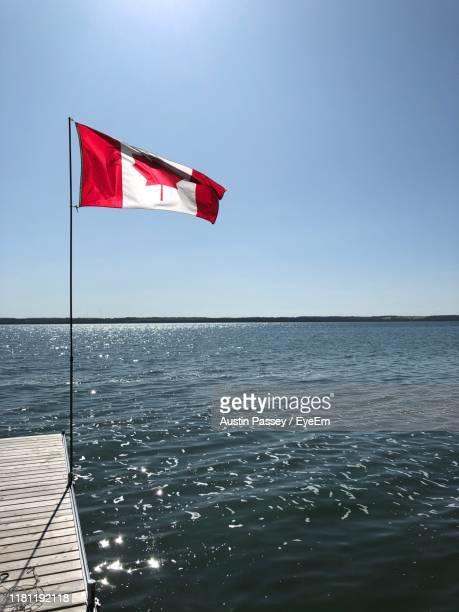Canada flag: (74, 124, 227, 225)
